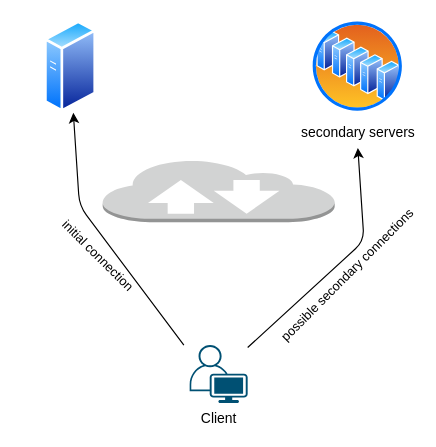
This 436x447 diagram has some shape labels left out. The box of each missing label's shape, as (x1, y1, x2, y2) in pixels:
bootstrap server: (44, 20, 96, 113)
Internet: (102, 158, 335, 222)
